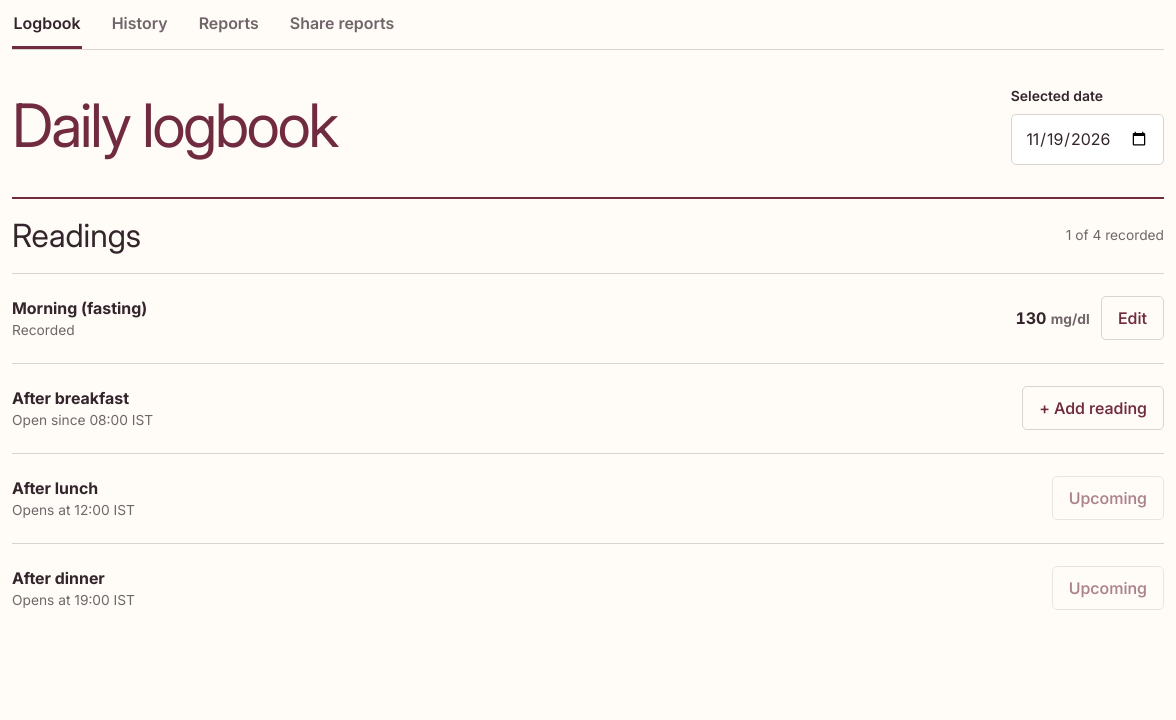
Test: reading form › deletes a reading only after confirmation
The image size is (1176, 720).
Expected: the text "1 of 4 recorded" is shown, [1066, 226, 1164, 246]
Click the button "Edit". click: (1132, 318)
box: [1101, 296, 1164, 340]
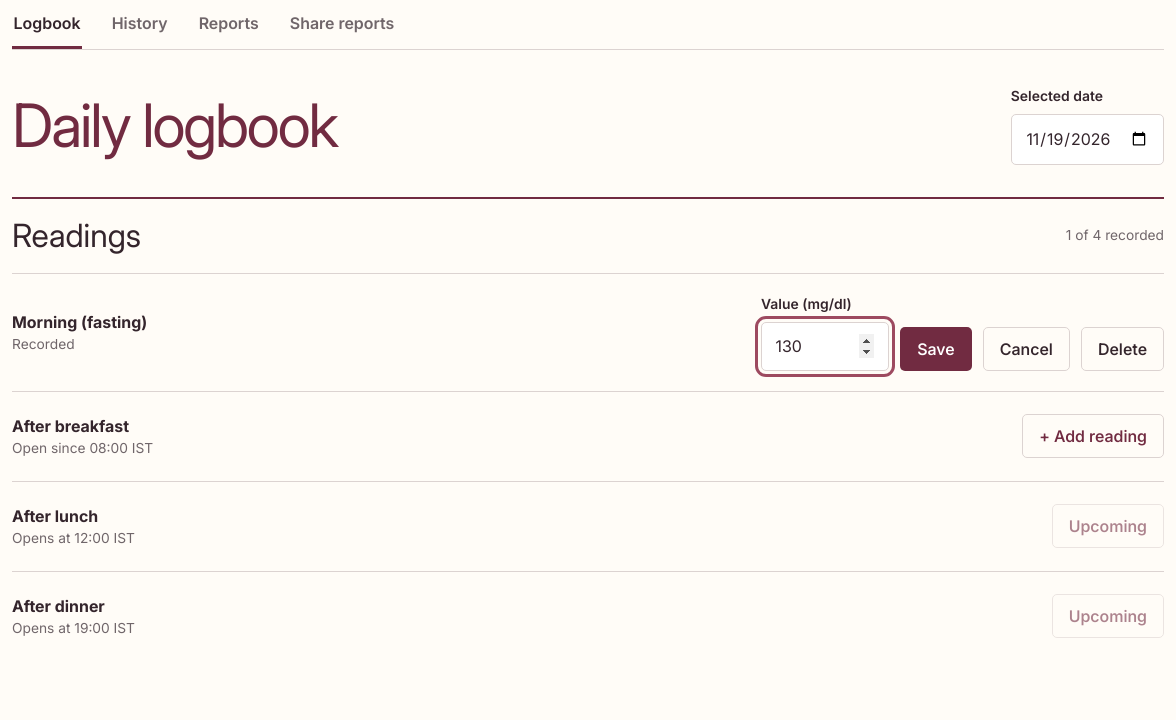
Click the button "Delete". click: (1122, 349)
box: [1081, 327, 1164, 371]
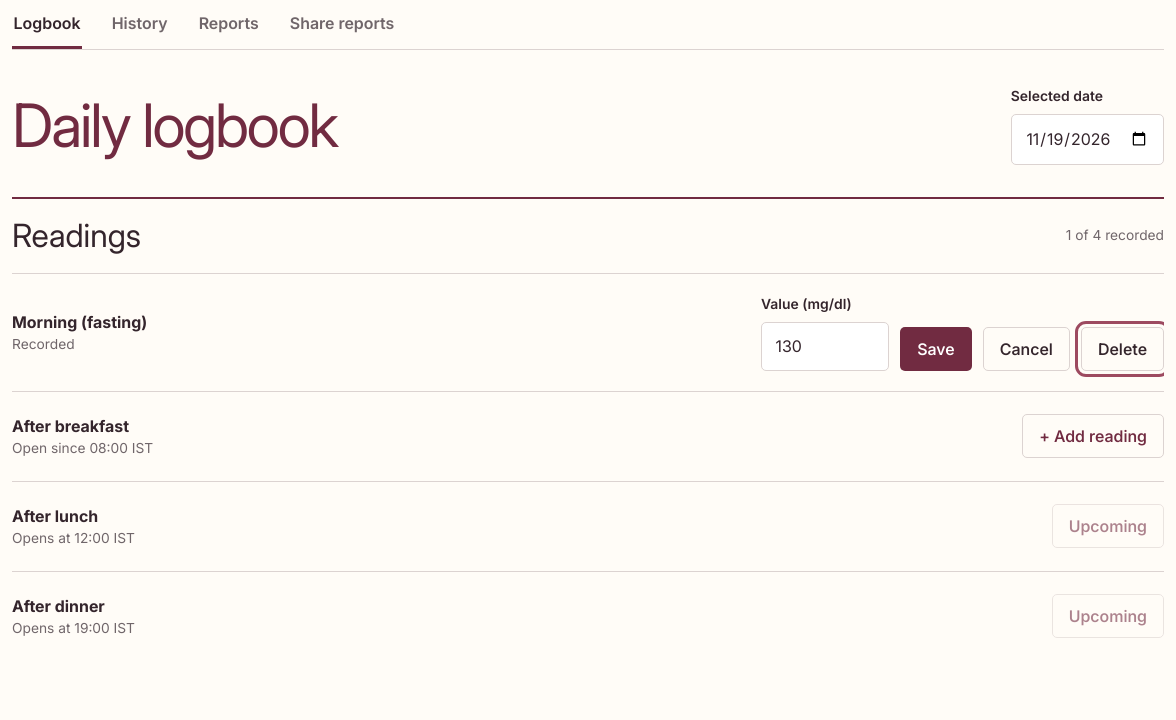
Now the number field labelled "Value (mg/dl)" holds "130", box [761, 322, 889, 371]
Click the button "Delete". click: (1122, 349)
box: [1081, 327, 1164, 371]
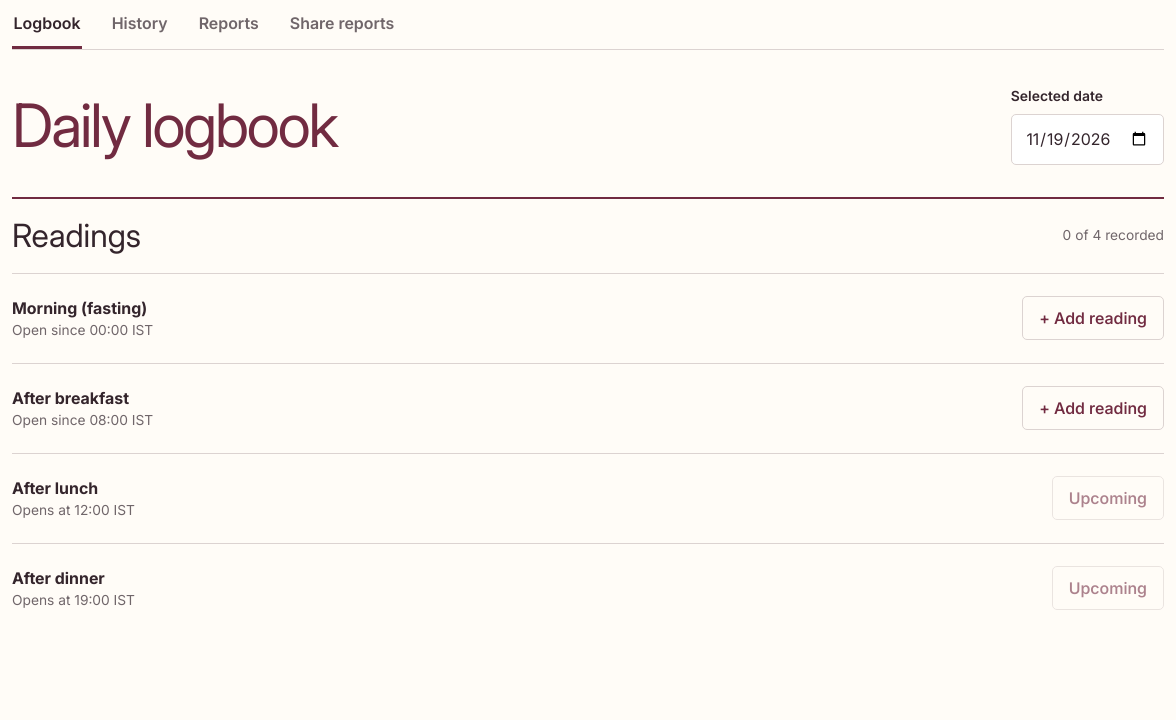
Now the text "0 of 4 recorded" is shown, box [1063, 226, 1164, 246]
